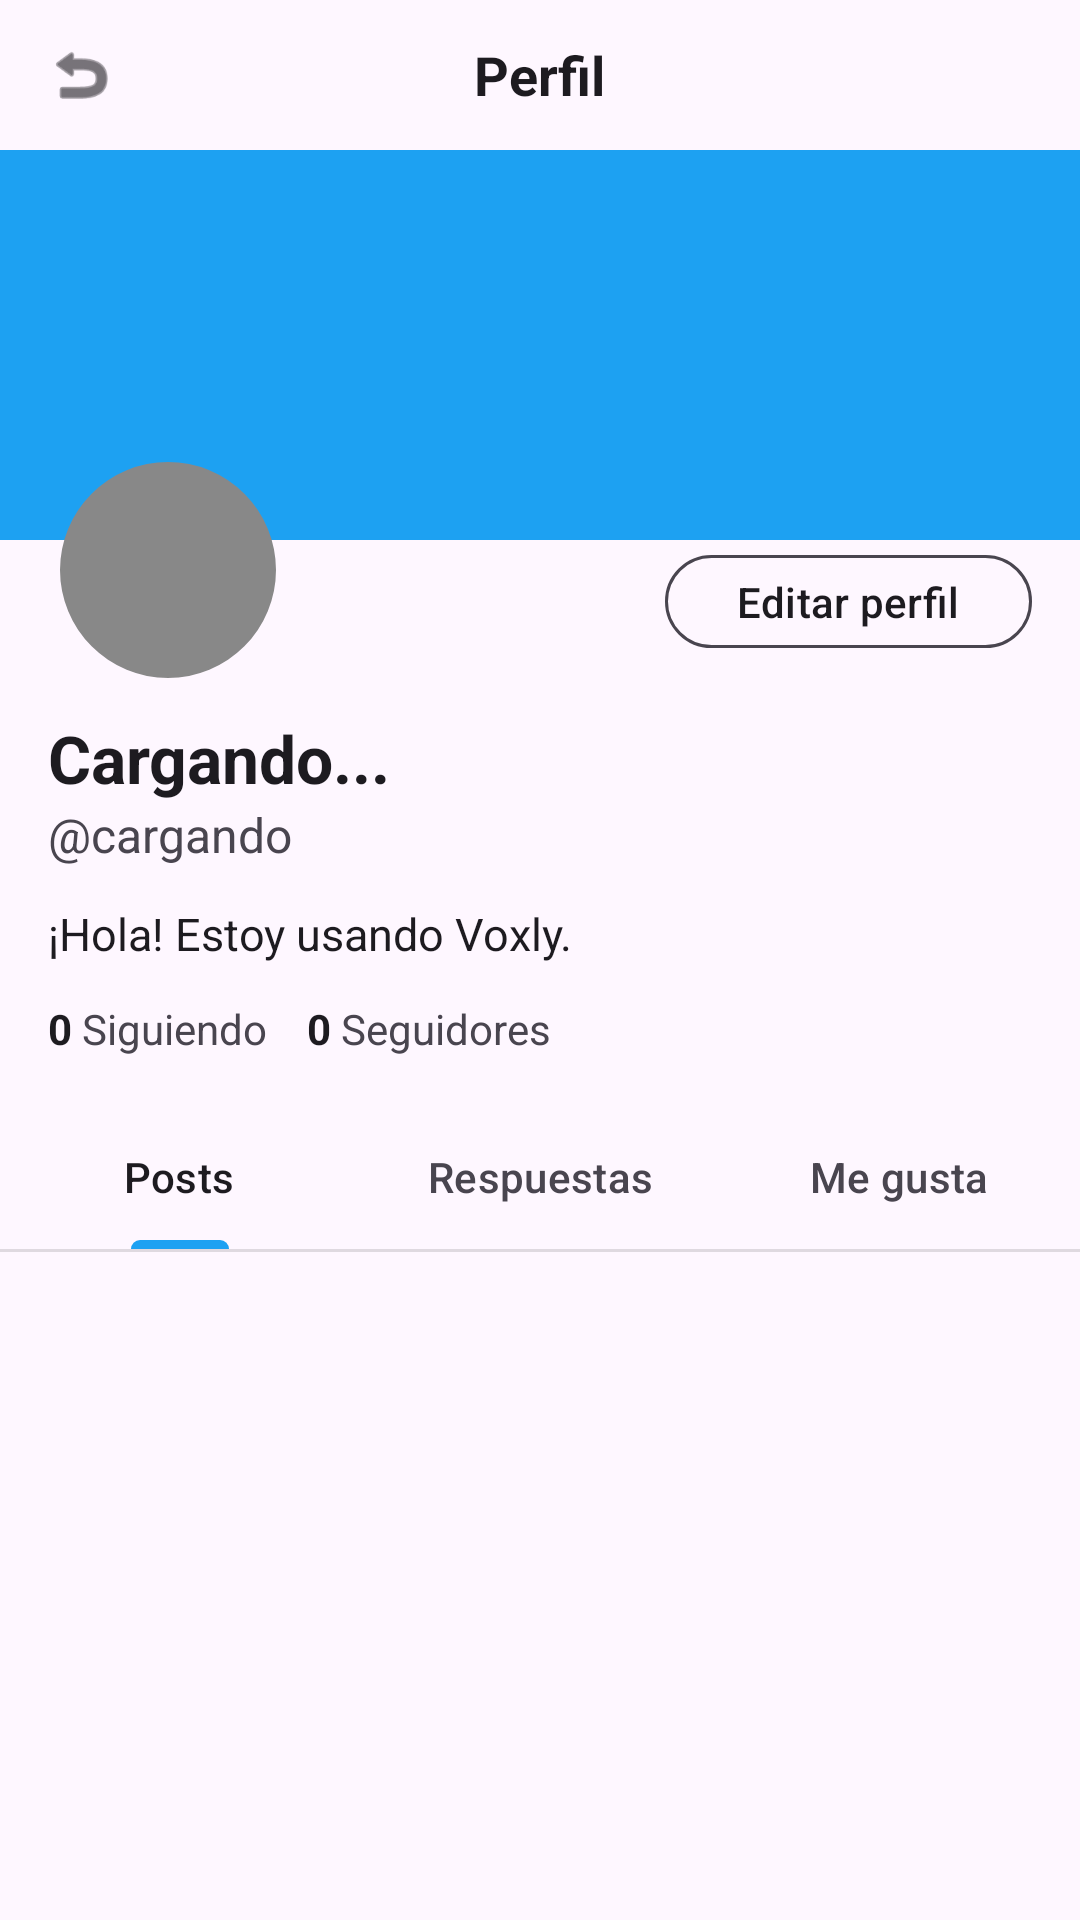

Icons on this 1080 × 1920 Android screen, each with its box as rect(x1, y1, x2, y2):
revert: rect(56, 52, 108, 99)
